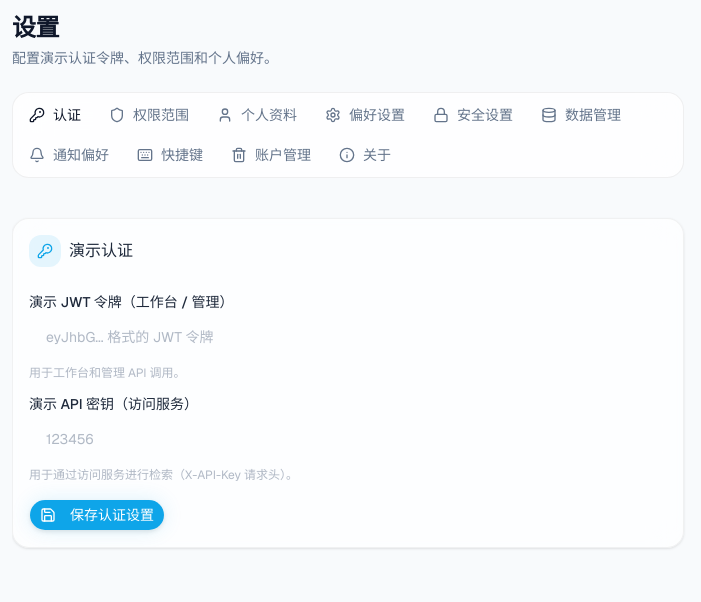
Test: SettingsPage › switches between Auth and Scope tabs with active indicator
Expected: the password field labelled "演示 JWT 令牌（工作台 / 管理）" is shown, [29,317,667,357]
Click the button "权限范围": [149, 115] box [97,97,201,133]
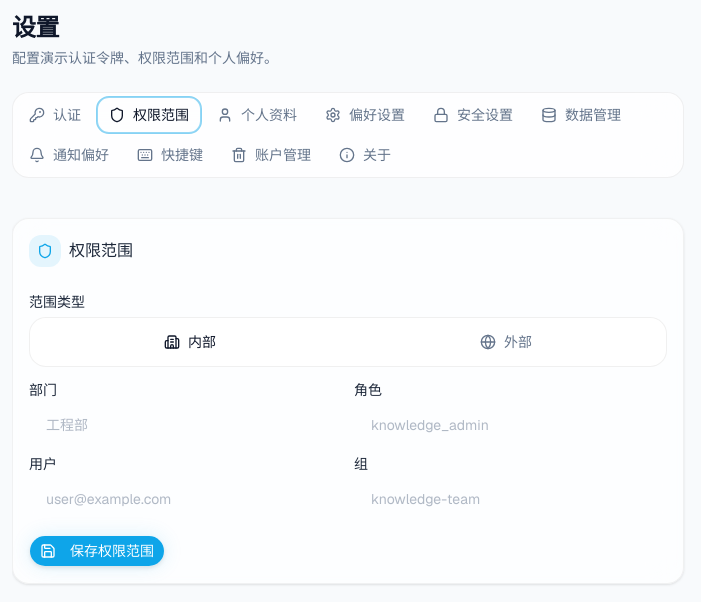
Expected: the text "范围类型" is shown, [29,293,85,311]
Expected: the label labelled "演示 JWT 令牌" is gone
